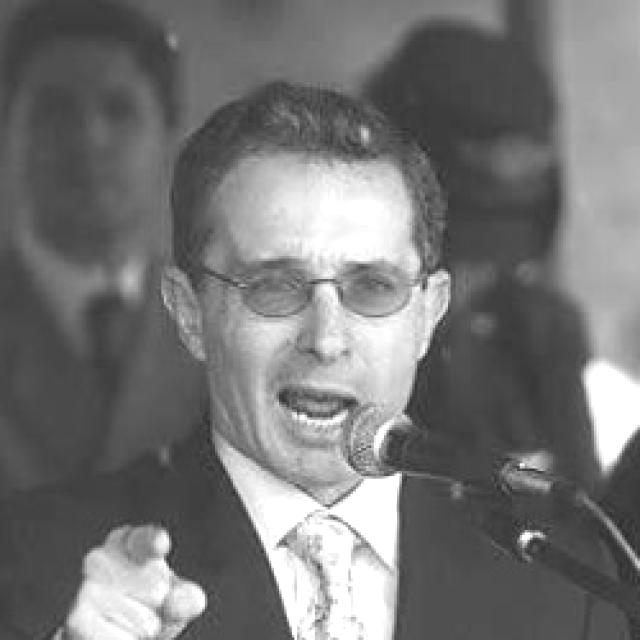real: (188, 135, 442, 491), (230, 244, 416, 325)
